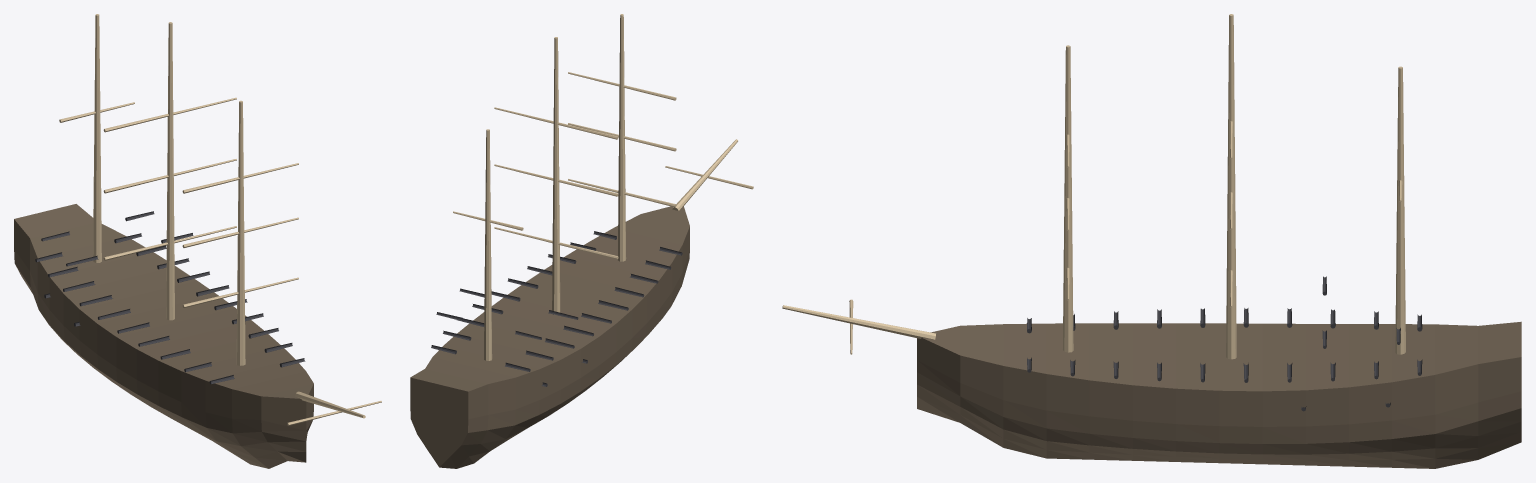
File: speedwell.glb
3 renders of one model, left to right at view 1: azimuth 30°, elevation 25°; view 2: azimuth 150°, elevation 25°; view 3: azimuth 270°, elevation 25°, orthographic. The views are drawn at different scales.
Visible parts, largest first — view 1: Coque, GrandMat, Misaine, Artimon, Beaupre; view 2: Coque, GrandMat, Misaine, Artimon, Beaupre; view 3: Coque, GrandMat, Misaine, Artimon, Beaupre.
Boxes of the visible parts, <box> form: Coque: <box>14,204,313,468</box>; GrandMat: <box>103,22,236,320</box>; Misaine: <box>182,100,298,365</box>; Artimon: <box>59,14,134,262</box>; Beaupre: <box>295,391,365,418</box>; Coque: <box>410,206,689,468</box>; GrandMat: <box>494,37,618,314</box>; Misaine: <box>568,14,676,261</box>; Artimon: <box>453,129,523,360</box>; Beaupre: <box>672,139,737,210</box>; Coque: <box>917,321,1521,468</box>; GrandMat: <box>1226,14,1236,359</box>; Misaine: <box>1063,45,1073,352</box>; Artimon: <box>1395,66,1405,354</box>; Beaupre: <box>782,305,935,339</box>.
Size of the model in its own units: 8.36 by 23.74 by 35.03.
